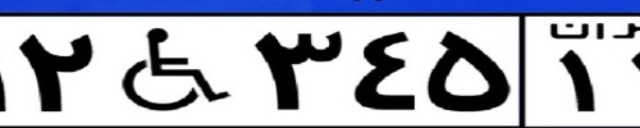1: (556, 48, 594, 112)
2: (17, 32, 98, 111)
3: (251, 29, 342, 110)
4: (353, 30, 418, 111)
5: (428, 30, 513, 111)
malol: (115, 27, 229, 111)
